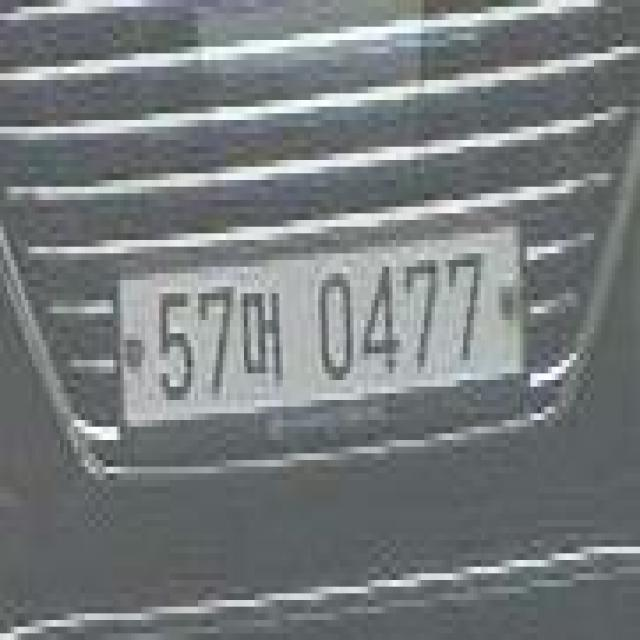0: (314, 262, 358, 386)
4: (362, 258, 402, 382)
5: (155, 284, 193, 407)
7: (445, 252, 486, 374), (196, 282, 236, 400), (405, 255, 442, 372)
license_plate: (101, 175, 542, 475)
meo: (242, 283, 284, 397)
